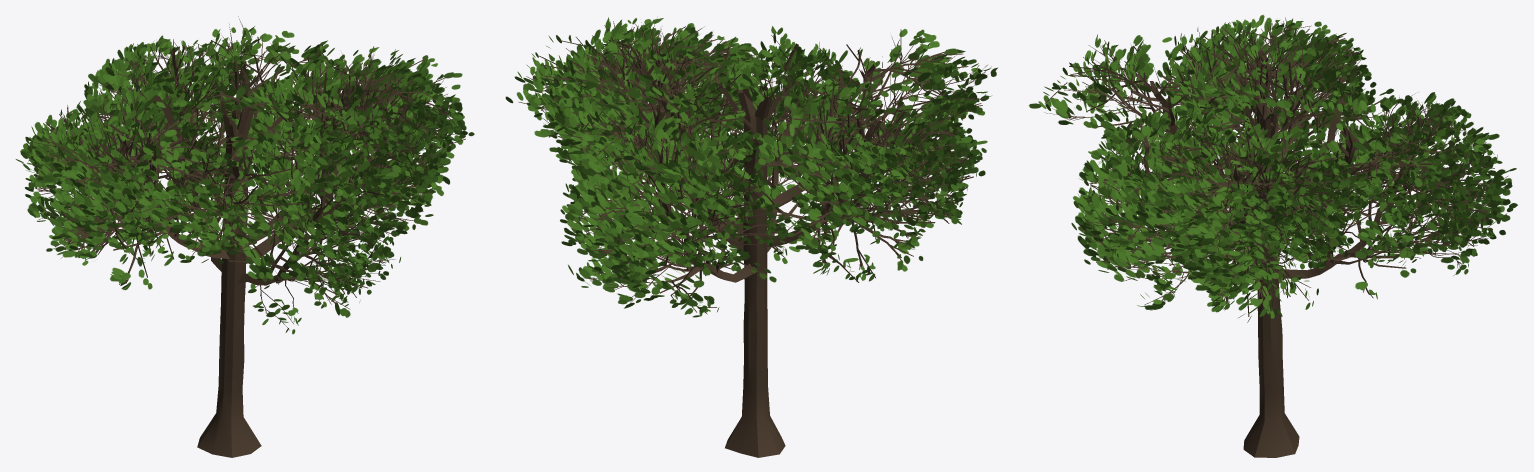
3 renders of one model, left to right at view 1: azimuth 30°, elevation 25°; view 2: azimuth 150°, elevation 25°; view 3: azimuth 270°, elevation 25°, orthographic. The views are drawn at different scales.
Parts seen in each view (by area): view 1: oak 01.001_trunk_Mat.001_0.051; view 2: oak 01.001_trunk_Mat.001_0.051; view 3: oak 01.001_trunk_Mat.001_0.051.
Boxes of the visible parts, box(x1,y1,x2,y2) form: oak 01.001_trunk_Mat.001_0.051: box(15, 16, 474, 457); oak 01.001_trunk_Mat.001_0.051: box(505, 17, 997, 457); oak 01.001_trunk_Mat.001_0.051: box(1029, 14, 1517, 457).
Bounding box in the file's own units: 6.6 × 5.2 × 6.46.
Materials: 2 (1 with a texture image).
